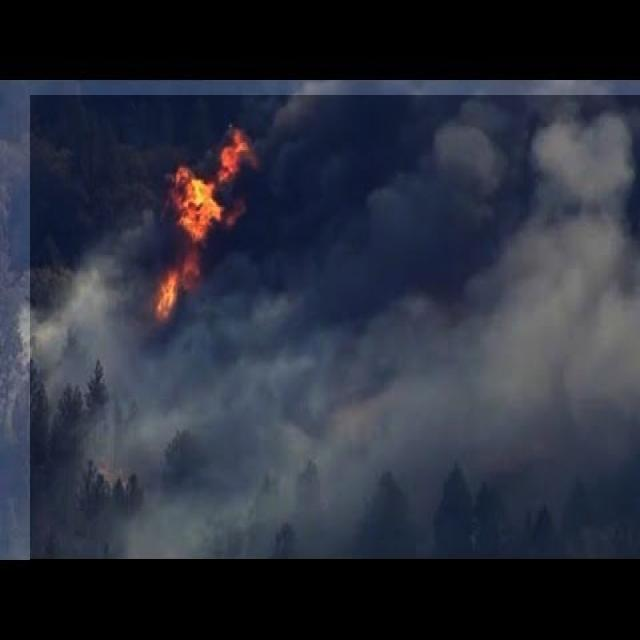Fire: (154, 127, 242, 329)
Smoke: (30, 96, 640, 584)
